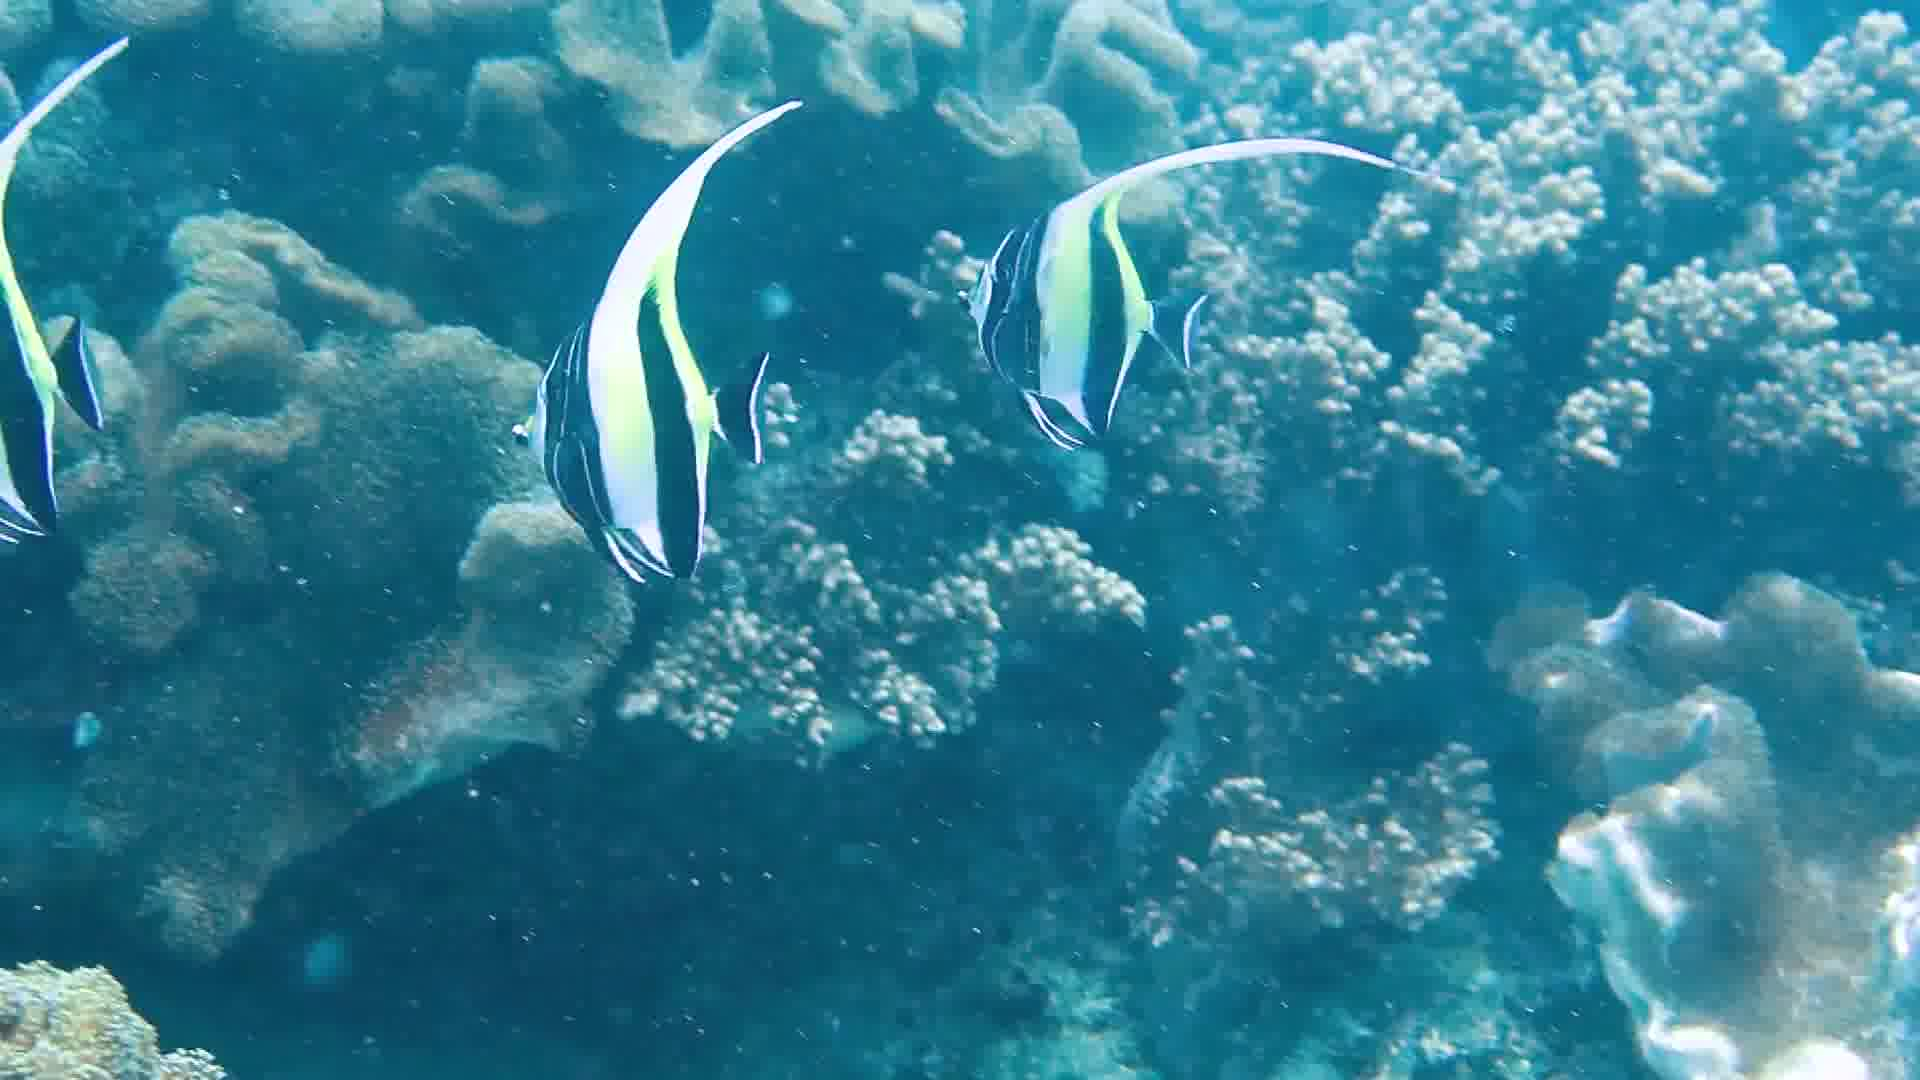Zanclus cornutus: (497, 198, 783, 601), (928, 108, 1215, 512)
